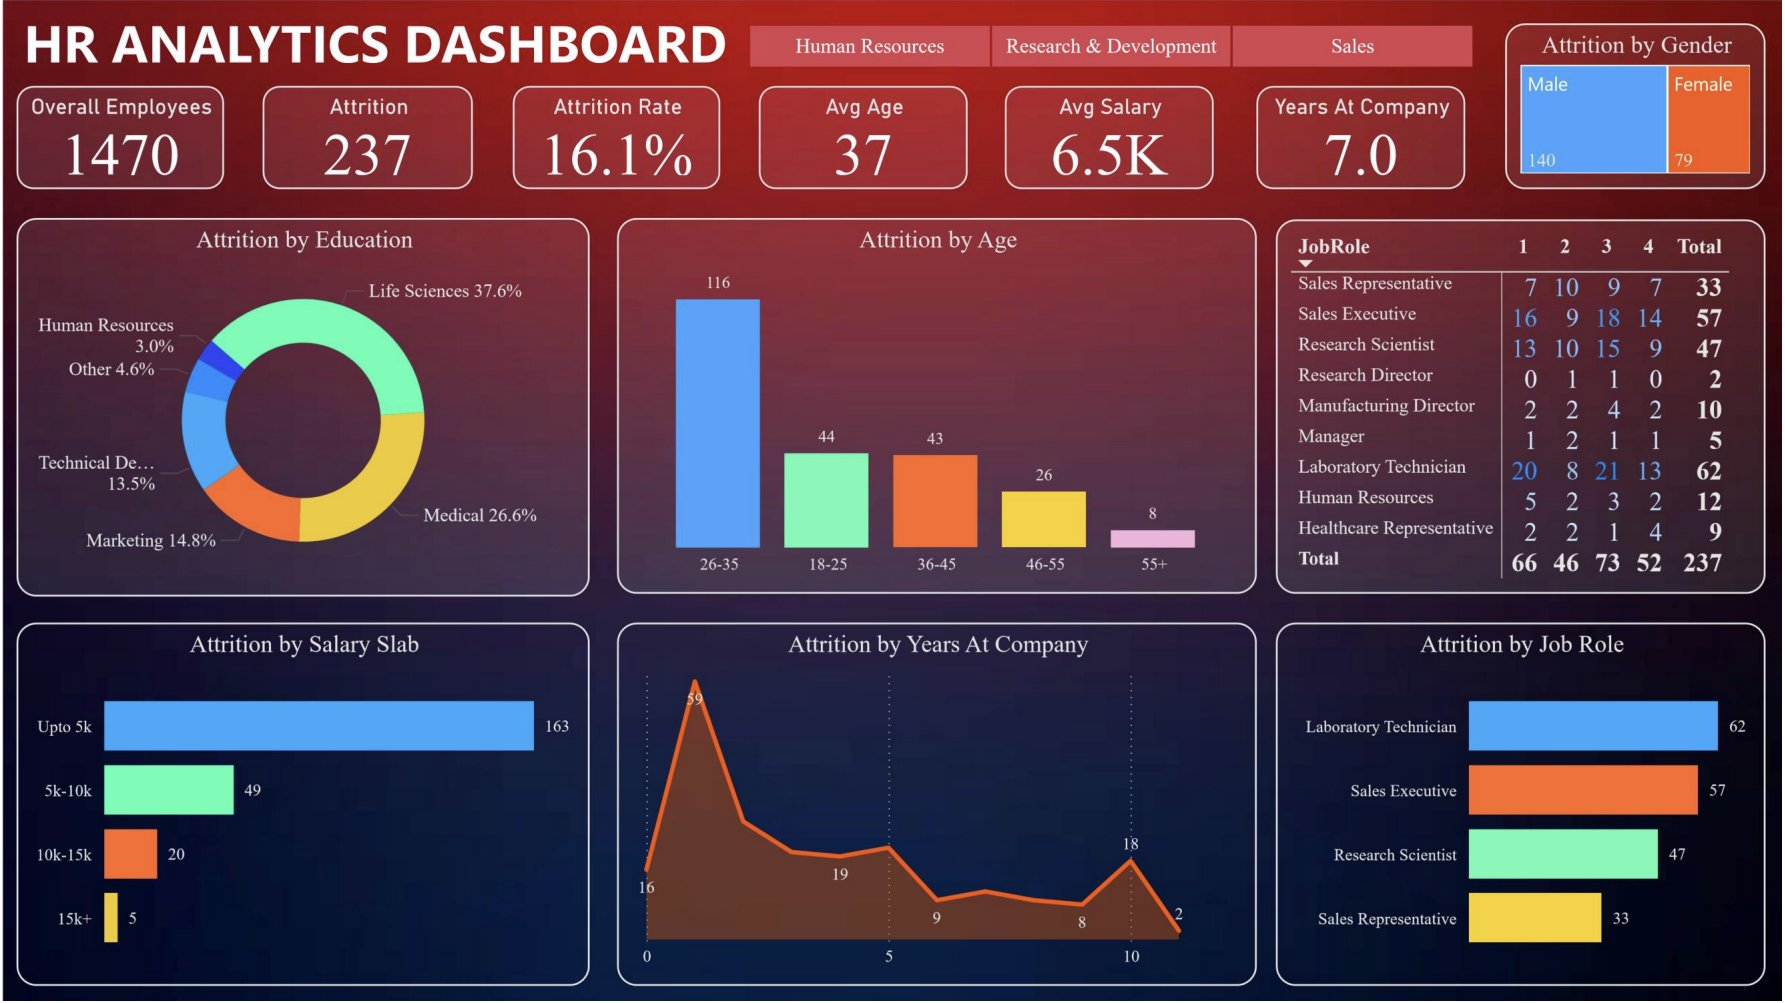

What the dashboard file says about the page in this screenshot:
{"tool":"powerbi","page":{"name":"Page 1","canvas":[1280,720],"ordinal":0},"visuals":[{"type":"card","title":"Overall Employees","fields":{"Values":["CountNonNull(HR_Analytics.EmpID)"]},"box":[9.7,61.5,149.6,74.8],"z":0},{"type":"card","title":"Attrition","fields":{"Values":["Sum(HR_Analytics.Attrition  )"]},"box":[187,61.5,150.8,74.8],"z":1000},{"type":"card","title":"Attrition Rate","fields":{"Values":["HR_Analytics.Attrition_rate"]},"box":[366.8,61.5,149.6,74.8],"z":2000},{"type":"card","title":"Avg Age","fields":{"Values":["Avg(HR_Analytics.Age)"]},"box":[544.1,61.5,149.6,74.8],"z":3000},{"type":"card","title":"Avg Salary","fields":{"Values":["Avg(HR_Analytics.MonthlyIncome)"]},"box":[721.5,61.5,149.6,74.8],"z":4000},{"type":"card","title":"Years At Company","fields":{"Values":["Avg(HR_Analytics.YearsAtCompany)"]},"box":[902.4,61.5,149.6,74.8],"z":5000},{"type":"donutChart","title":"Attrition by Education","fields":{"Category":["HR_Analytics.EducationField"],"Y":["Sum(HR_Analytics.Attrition  )"]},"box":[9.7,156.8,412.6,272.7],"z":6000},{"type":"columnChart","title":"Attrition by Age","fields":{"Y":["Sum(HR_Analytics.Attrition  )"],"Category":["HR_Analytics.AgeGroup"]},"box":[441.6,156.8,460.9,270.2],"z":7000},{"type":"pivotTable","fields":{"Rows":["HR_Analytics.JobRole"],"Columns":["HR_Analytics.JobSatisfaction"],"Values":["Sum(HR_Analytics.Attrition  )"]},"box":[915.7,158,352.3,269],"z":8000},{"type":"barChart","title":"Attrition by Salary Slab","fields":{"Category":["HR_Analytics.SalarySlab"],"Y":["Sum(HR_Analytics.Attrition  )"]},"box":[9.7,447.6,412.6,261.8],"z":9000},{"type":"barChart","title":"Attrition by Job Role","fields":{"Category":["HR_Analytics.JobRole"],"Y":["Sum(HR_Analytics.Attrition  )"]},"box":[915.7,447.6,352.3,261.8],"z":10000},{"type":"areaChart","title":"Attrition by Years At Company","fields":{"Y":["Sum(HR_Analytics.Attrition  )"],"Category":["HR_Analytics.YearsAtCompany"]},"box":[441.6,447.6,460.9,261.8],"z":11000},{"type":"treemap","title":"Attrition by Gender","fields":{"Values":["Sum(HR_Analytics.Attrition  )"],"Group":["HR_Analytics.Gender"]},"box":[1081,16.9,187,119.4],"z":12000},{"type":"slicer","fields":{"Values":["HR_Analytics.Department"]},"box":[511.5,12.1,569.4,38.6],"z":13000},{"type":"textbox","box":[9.7,0,534.5,61.5],"z":14000}]}

Visuals, with their boxes in screenshot pixels (x1, y1, x2, y2), scaled from the page's 1280x720 canvas onto the 1785x1003 screenshot:
"Overall Employees" card: 14 86 222 190
"Attrition" card: 261 86 471 190
"Attrition Rate" card: 512 86 720 190
"Avg Age" card: 759 86 967 190
"Avg Salary" card: 1006 86 1215 190
"Years At Company" card: 1258 86 1467 190
"Attrition by Education" donutChart: 14 218 589 598
"Attrition by Age" columnChart: 616 218 1259 595
pivotTable - HR_Analytics.JobRole x HR_Analytics.JobSatisfaction: 1277 220 1768 595
"Attrition by Salary Slab" barChart: 14 624 589 988
"Attrition by Job Role" barChart: 1277 624 1768 988
"Attrition by Years At Company" areaChart: 616 624 1259 988
"Attrition by Gender" treemap: 1507 24 1768 190
slicer - HR_Analytics.Department: 713 17 1507 71
textbox: 14 0 759 86
